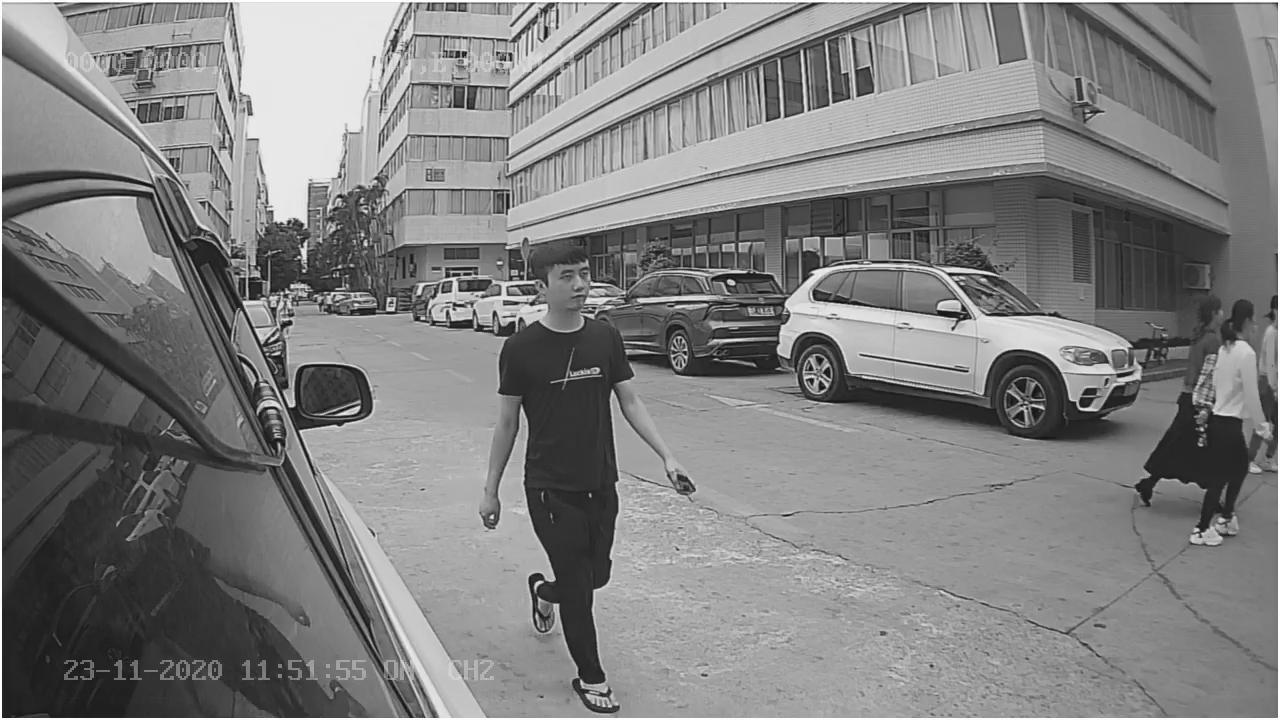person: (475, 237, 714, 720), (1189, 279, 1271, 546)
